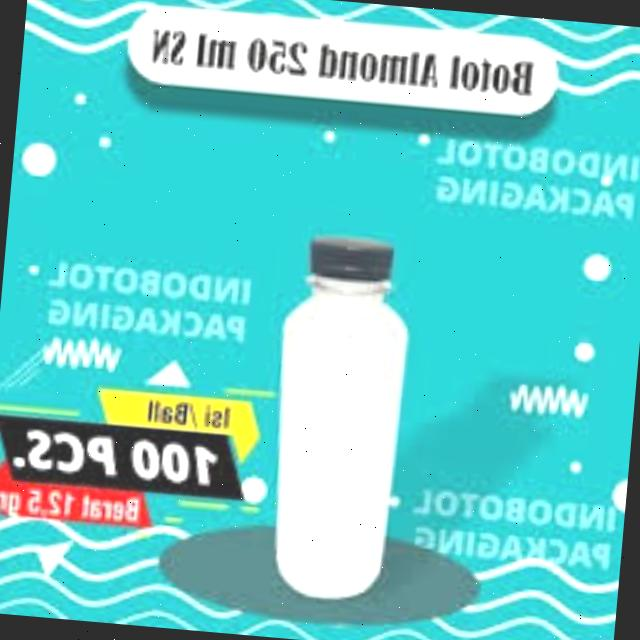trash: (253, 230, 420, 612)
